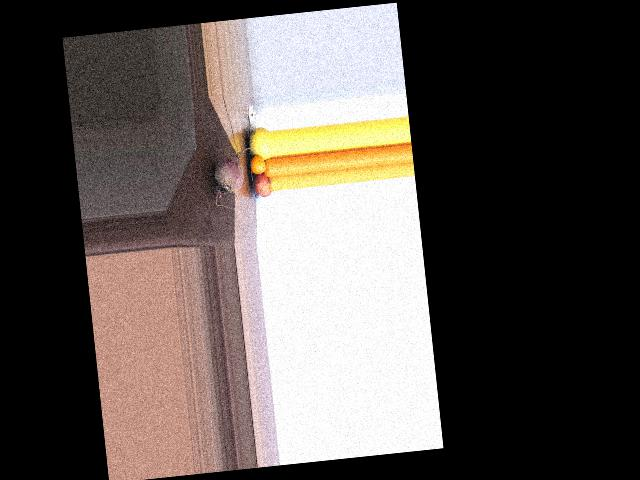beet: (210, 146, 260, 210)
